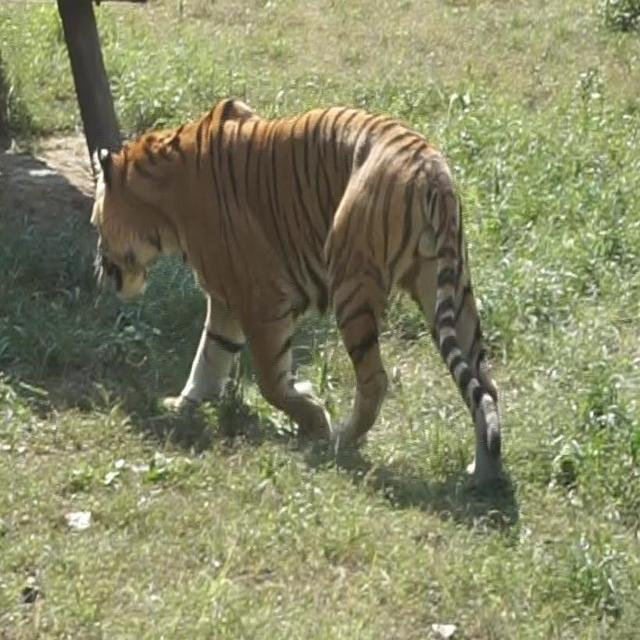tiger: (88, 96, 506, 493)
